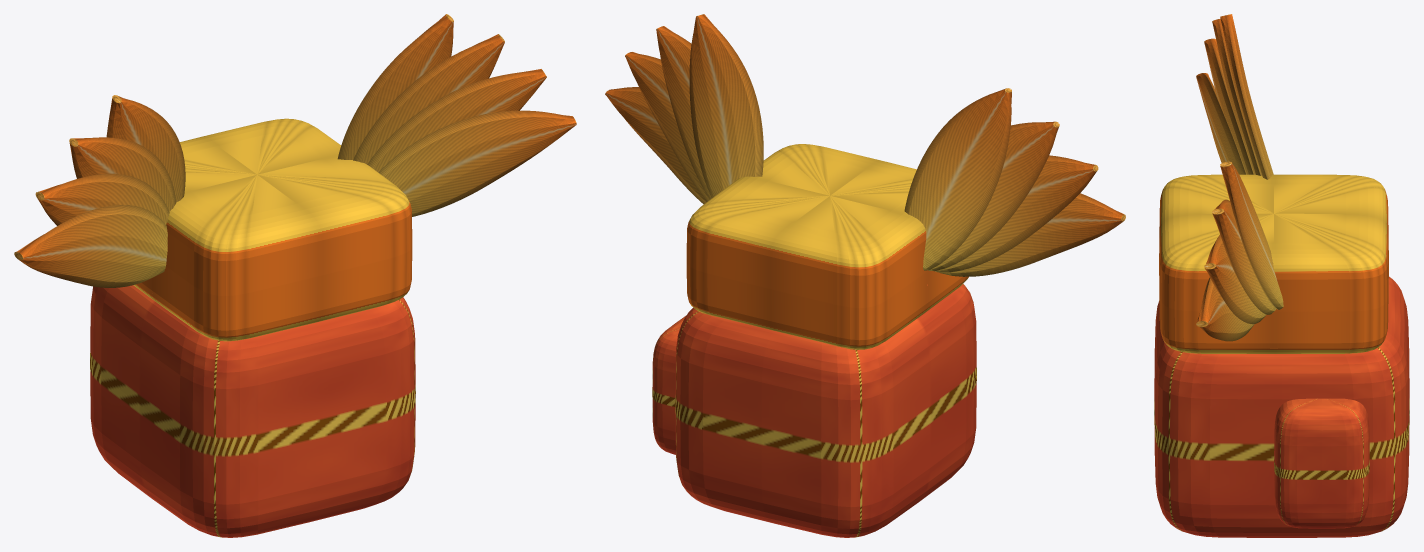
The model's file is R2_PhoenixGlove_R.obj.
3 renders of one model, left to right at view 1: azimuth 30°, elevation 25°; view 2: azimuth 150°, elevation 25°; view 3: azimuth 270°, elevation 25°, orthographic. The views are drawn at different scales.
Visible parts, largest first — view 1: Glove, Wings, Cuff; view 2: Glove, Wings, Cuff; view 3: Glove, Cuff, Wings.
Boxes of the visible parts, x1,y1,x2,y2 form: Glove: (90, 285, 415, 537); Wings: (14, 14, 576, 287); Cuff: (133, 118, 412, 341); Glove: (652, 284, 976, 537); Wings: (605, 14, 1125, 276); Cuff: (686, 144, 968, 349); Glove: (1154, 276, 1409, 537); Cuff: (1159, 174, 1388, 353); Wings: (1196, 14, 1283, 341).
Size of the model in its own units: 3.7 by 2.87 by 1.6.
Materials: 3 (3 with a texture image).
